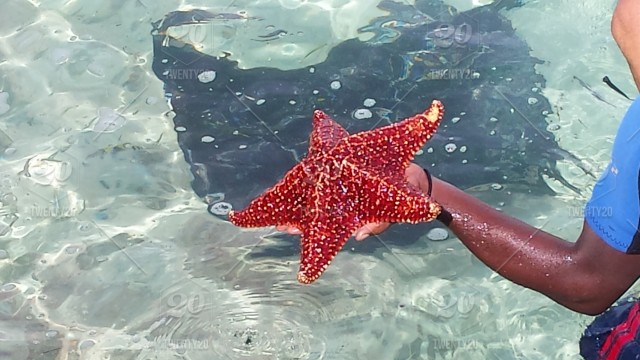starfish: (230, 100, 469, 300)
